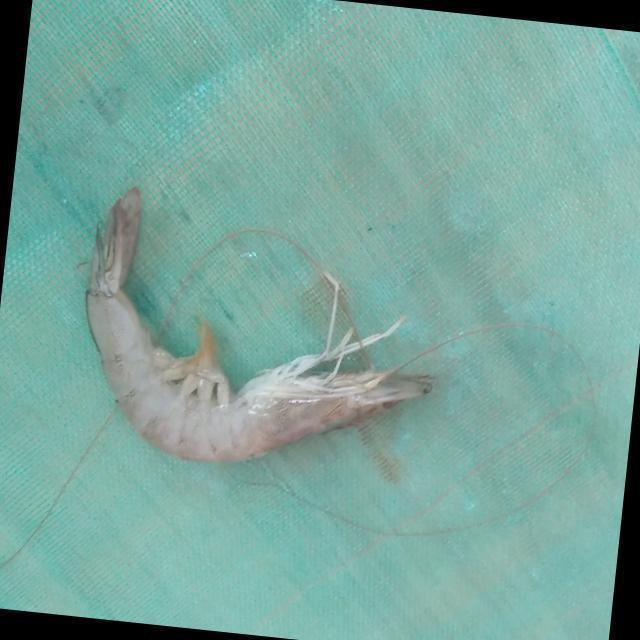shrimp: (85, 187, 433, 462)
